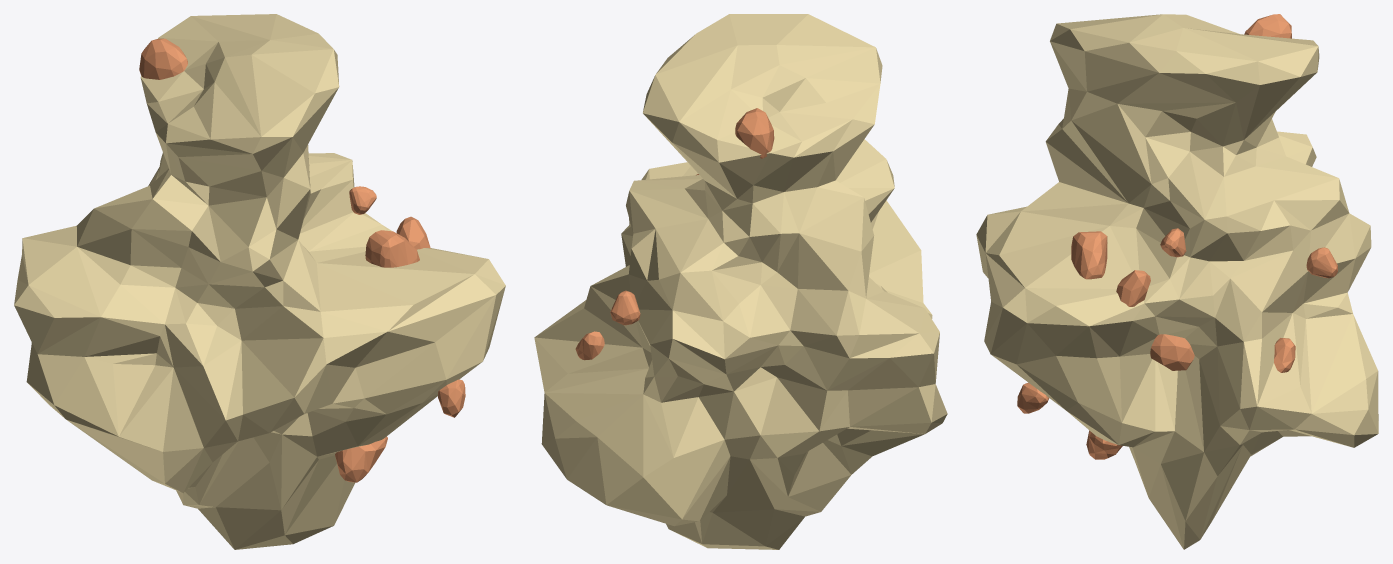
File: StoneOre (29).fbx
3 views of the same model, side by side, from view 1: azimuth 30°, elevation 25°; view 2: azimuth 150°, elevation 25°; view 3: azimuth 270°, elevation 25° (orthographic). The views are drawn at different scales.
Parts seen in each view (by area): view 1: Asteroid316; view 2: Asteroid316; view 3: Asteroid316.
Boxes of the visible parts, x1=… form: Asteroid316: x1=14, y1=14, x2=505, y2=549; Asteroid316: x1=534, y1=14, x2=947, y2=549; Asteroid316: x1=976, y1=14, x2=1378, y2=549.
Bounding box in the file's own units: 300 × 374 × 272.
